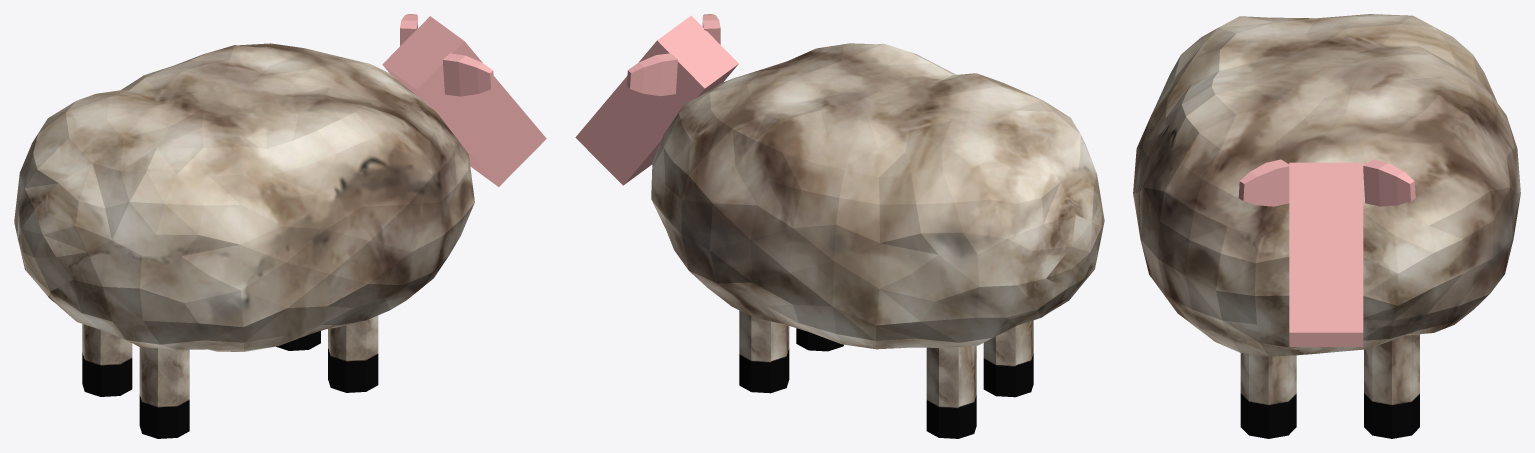
The model's file is finalSheep.fbx.
3 views of the same model, side by side, from view 1: azimuth 30°, elevation 25°; view 2: azimuth 150°, elevation 25°; view 3: azimuth 270°, elevation 25° (orthographic). The views are drawn at different scales.
Parts seen in each view (by area): view 1: Cube.001; view 2: Cube.001; view 3: Cube.001.
Part boxes in pixels (x1=…): Cube.001: x1=14, y1=14, x2=546, y2=438; Cube.001: x1=575, y1=14, x2=1104, y2=438; Cube.001: x1=1133, y1=14, x2=1520, y2=438.
Bounding box in the file's own units: 267 × 156 × 167.
Materials: 1 (1 with a texture image).
